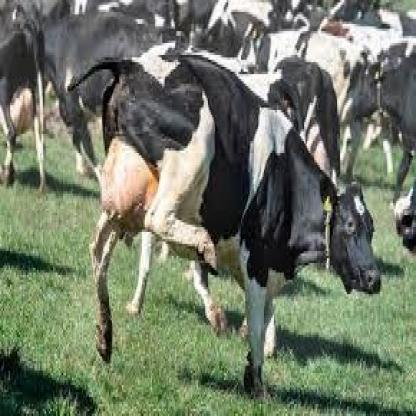cow: (90, 55, 382, 404), (0, 0, 47, 201)
